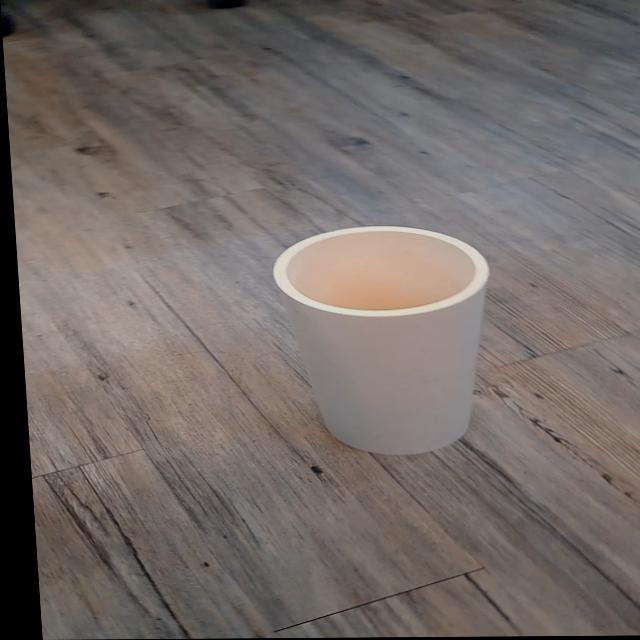CORAL: (246, 203, 524, 483)
